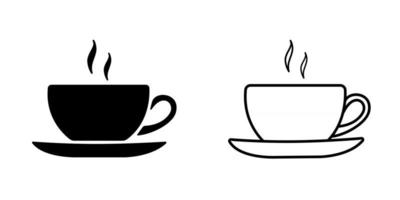cup: (30, 81, 179, 160), (227, 83, 372, 159)
